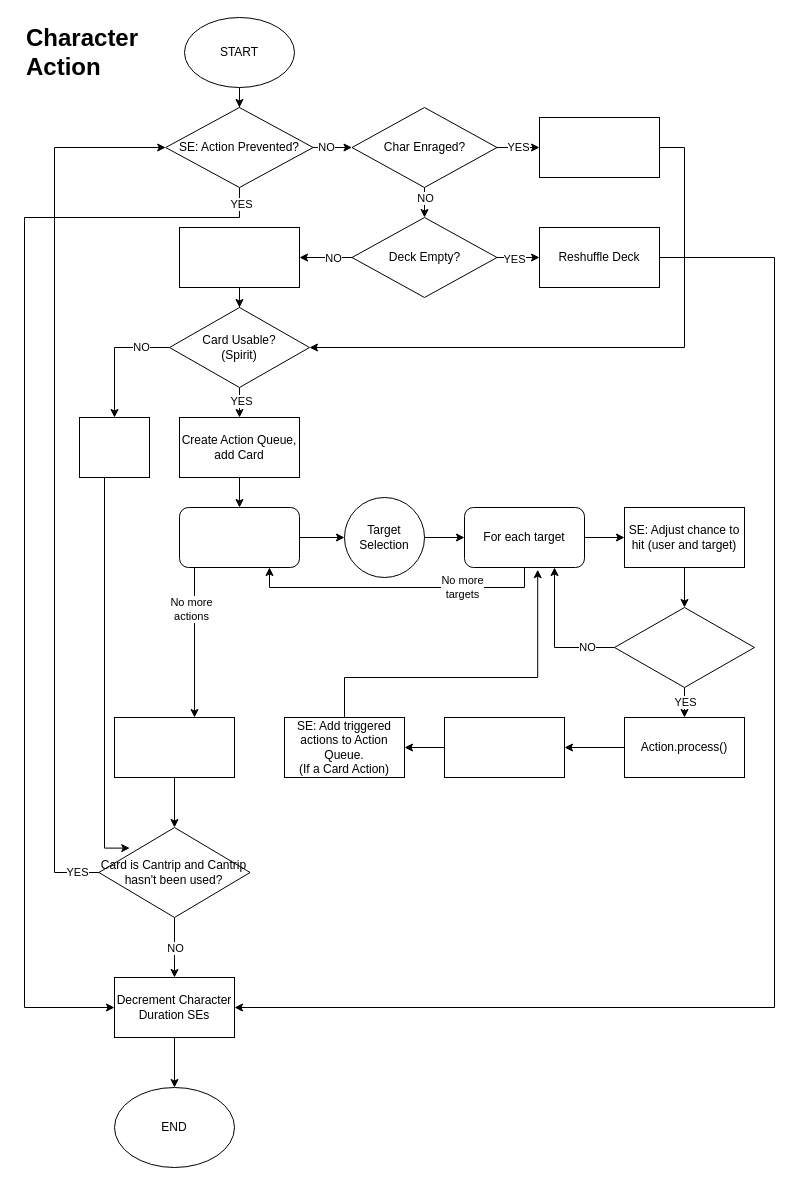
The diagram is 800 pixels wide and 1185 high, and some of its shapes have lost their labels. The shapes that lost their labels are listed below. From the top down, each one's box as (x1, y1, x2, y2) in pixels, then its label:
(538, 116, 660, 178): Use "Wild Strike"
(178, 226, 300, 288): Reveal Card
(78, 416, 150, 478): Apply Penalty
(178, 506, 300, 568): While Action Queue not Empty
(614, 606, 754, 688): Hit?
(114, 716, 234, 778): Decrement affected usage-based SEs
(444, 716, 564, 778): Add target to "hit last action" list. (If a Card Action)
